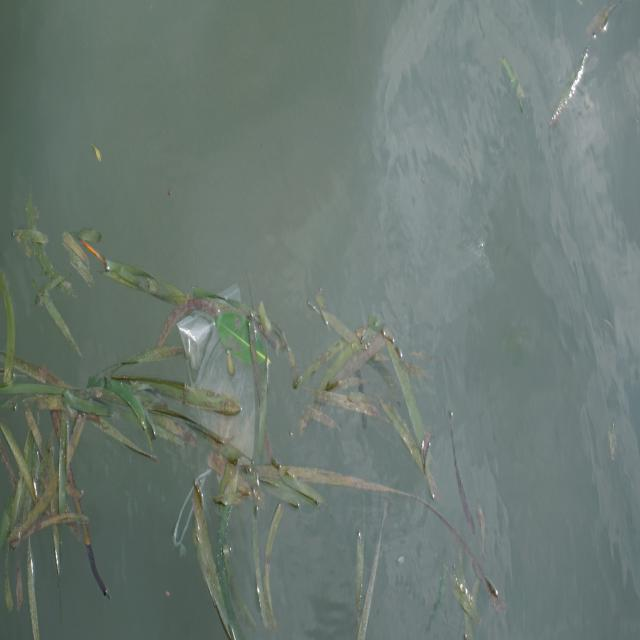Kantong Plastik: (169, 275, 265, 488)
